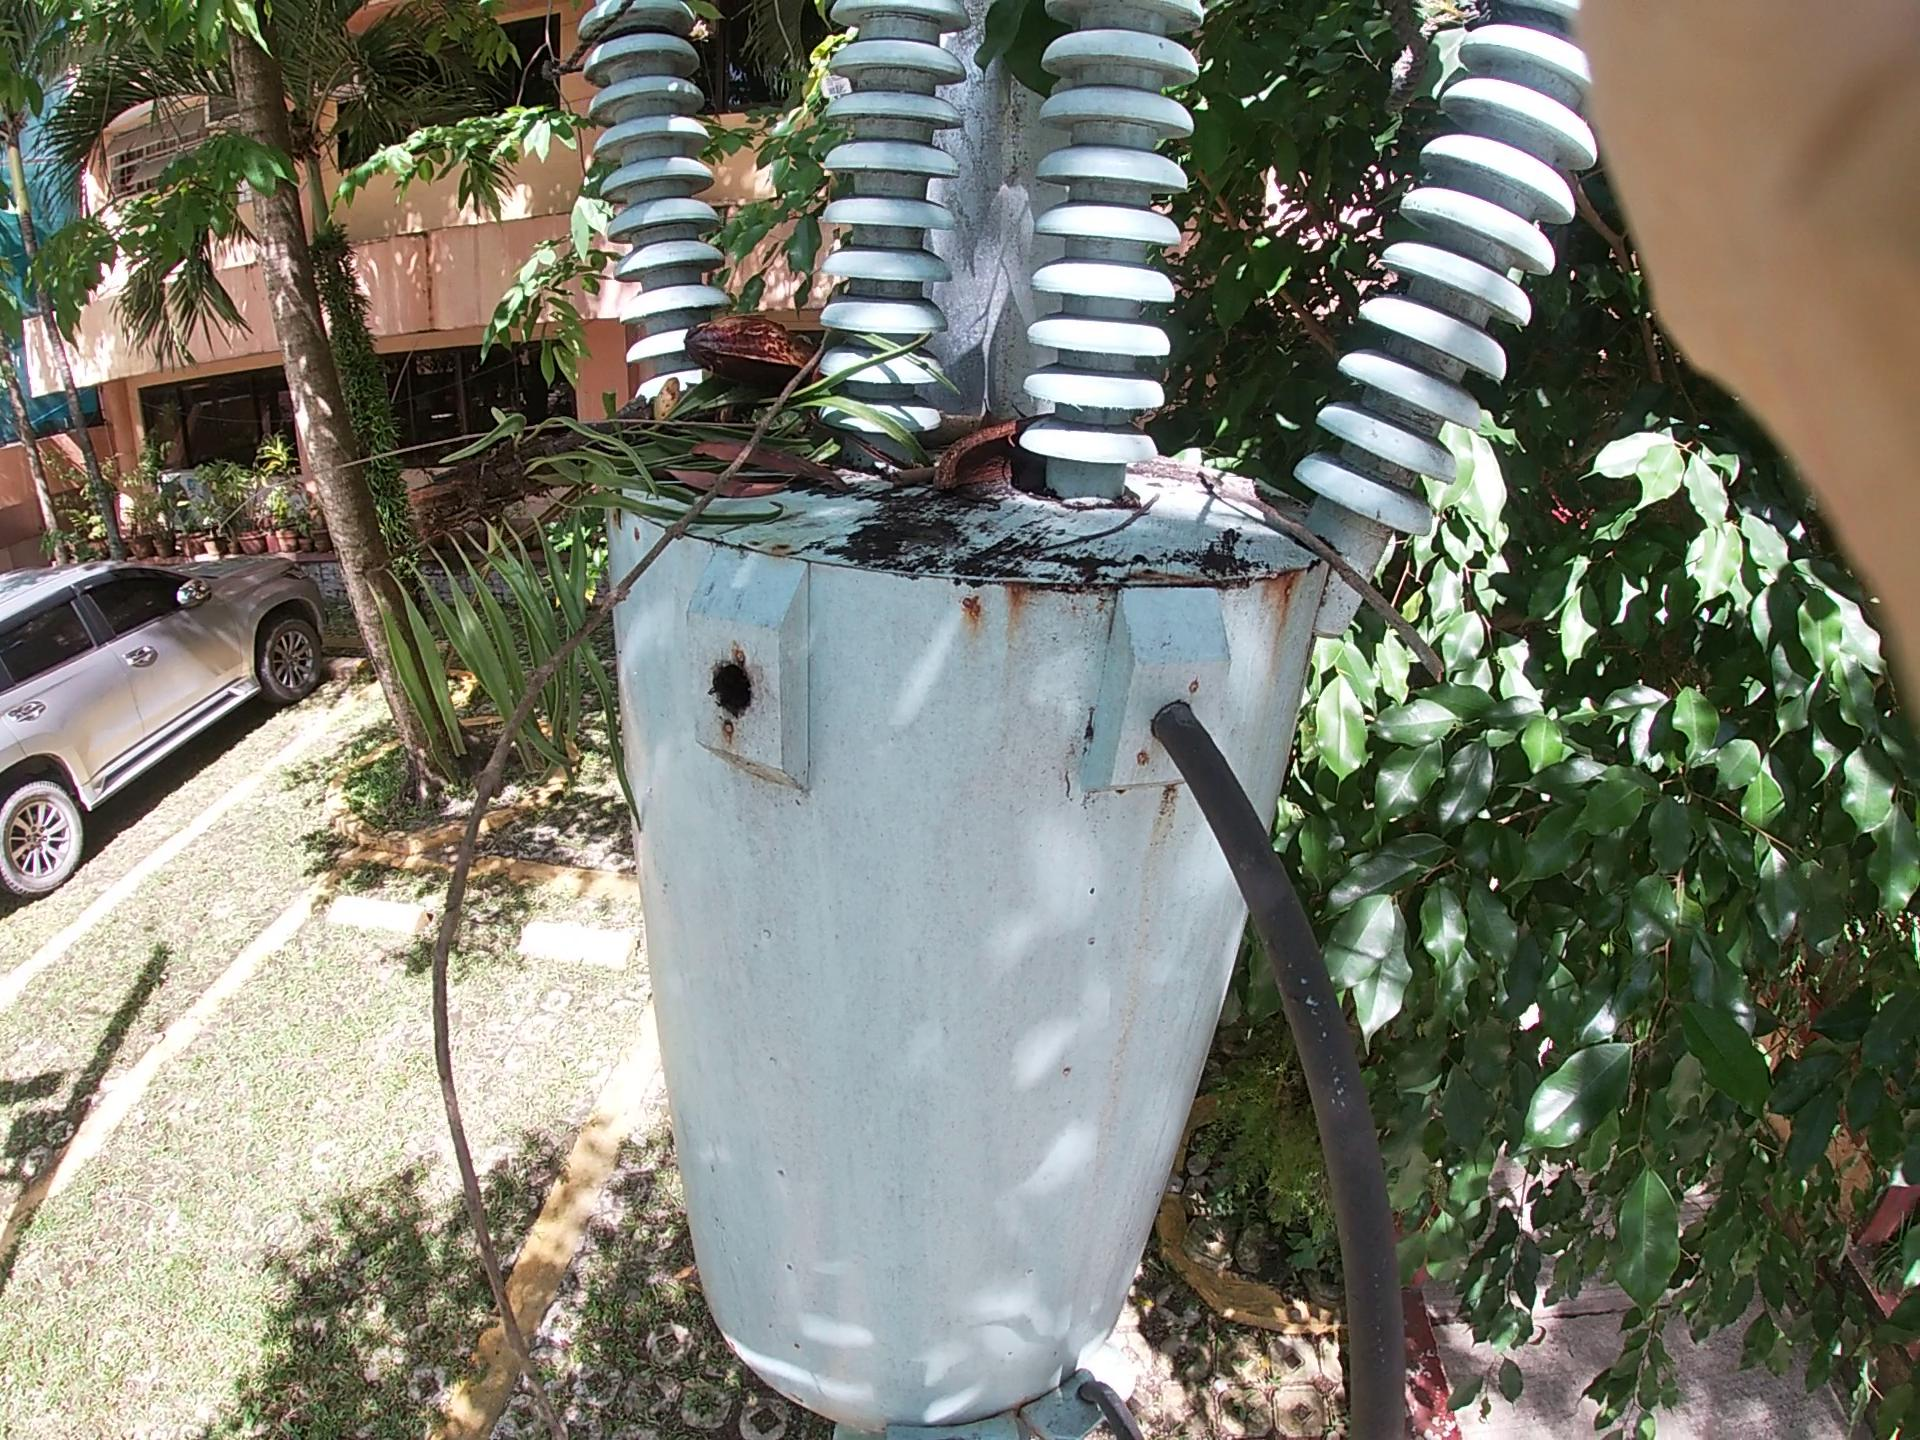branch with leaves: (457, 266, 915, 597)
leaf: (1123, 427, 1435, 653), (641, 393, 779, 535)
mahogany fruit: (705, 244, 862, 442), (931, 365, 1113, 531)
tree branch: (452, 331, 854, 1175), (865, 396, 1023, 501)
